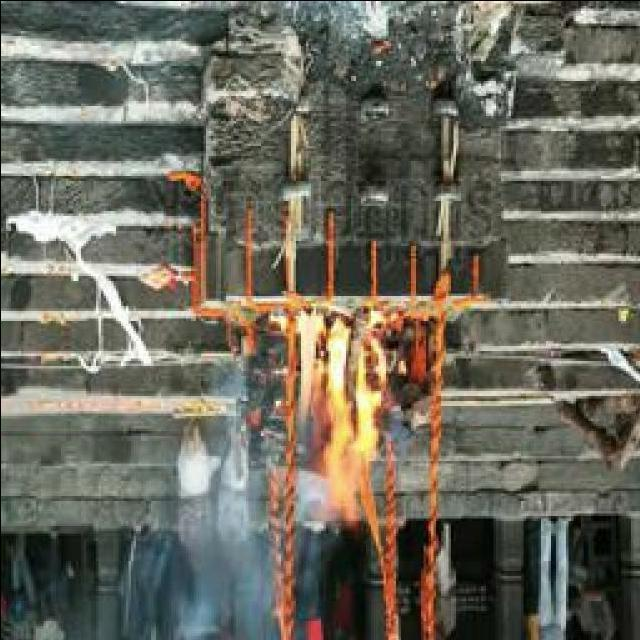Fire: (296, 298, 391, 501)
